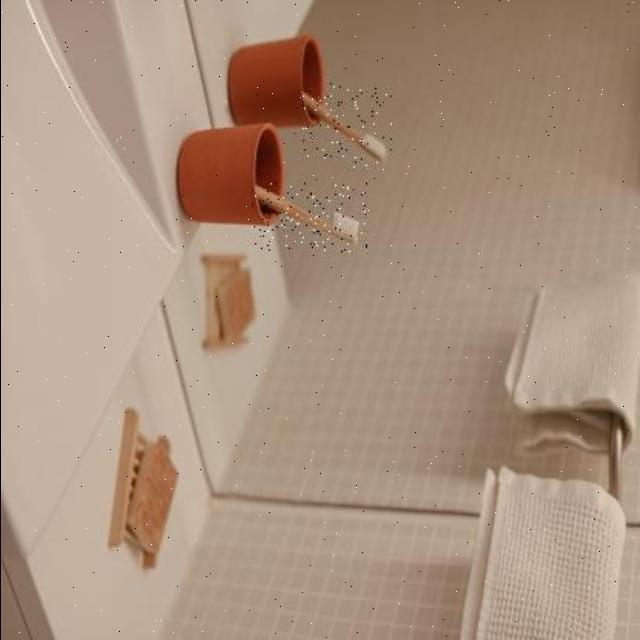toothbrush: (250, 184, 366, 252), (302, 83, 391, 167)
